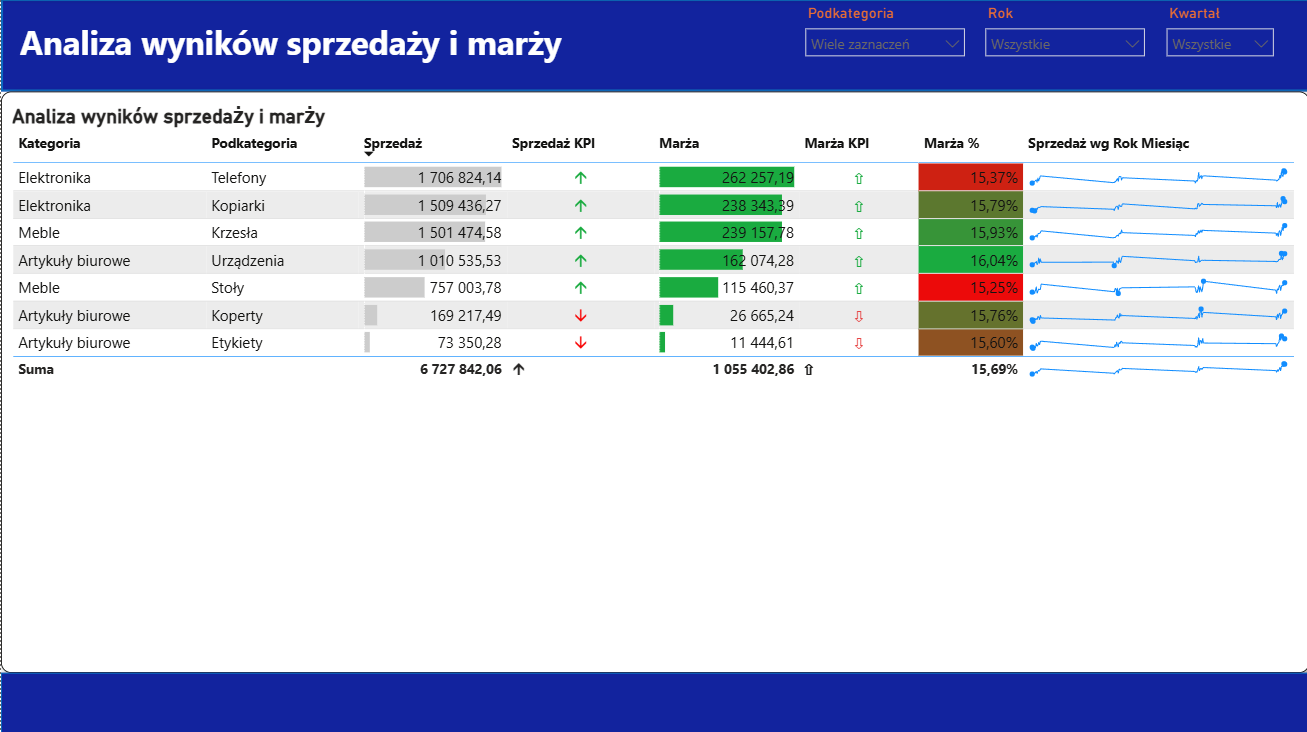

What the dashboard file says about the page in this screenshot:
{"tool":"powerbi","page":{"name":"Analiza wyników sprzedaży i marży","canvas":[1280,720],"ordinal":0},"visuals":[{"type":"shape","box":[0,0,1280.3,90.5],"z":0},{"type":"tableEx","title":"Analiza wyników sprzedaży i marży","fields":{"Values":["Produkt.Kategoria","Produkt.Podkategoria","_Miary.Sprzedaż","_Miary.Sprzedaż KPI","_Miary.Marża","_Miary.Marża KPI","_Miary.Marża %","SparklineData(_Miary.Sprzedaż_[Kalendarz.Rok Miesiąc])"]},"box":[0,90.4,1280,569],"z":1},{"type":"shape","box":[0,659.5,1280,61.2],"z":2},{"type":"textbox","box":[13.9,15.3,541.2,61.2],"z":3},{"type":"slicer","fields":{"Values":["Kalendarz.Rok"]},"box":[953,0,176.7,75.1],"z":4},{"type":"slicer","fields":{"Values":["Kalendarz.Kwartał"]},"box":[1129.7,0,125.2,76.5],"z":5},{"type":"slicer","fields":{"Values":["Produkt.Podkategoria"]},"box":[776.3,0,176.7,75.1],"z":6}]}

Visuals, with their boxes in screenshot pixels (x1, y1, x2, y2), scaled from the page's 1280x720 canvas onto the 1307x732 screenshot:
shape: bbox=(0, 0, 1306, 92)
"Analiza wyników sprzedaży i marży" tableEx: bbox=(0, 92, 1306, 670)
shape: bbox=(0, 670, 1306, 731)
textbox: bbox=(14, 16, 567, 78)
slicer - Kalendarz.Rok: bbox=(973, 0, 1154, 76)
slicer - Kalendarz.Kwartał: bbox=(1154, 0, 1281, 78)
slicer - Produkt.Podkategoria: bbox=(793, 0, 973, 76)
